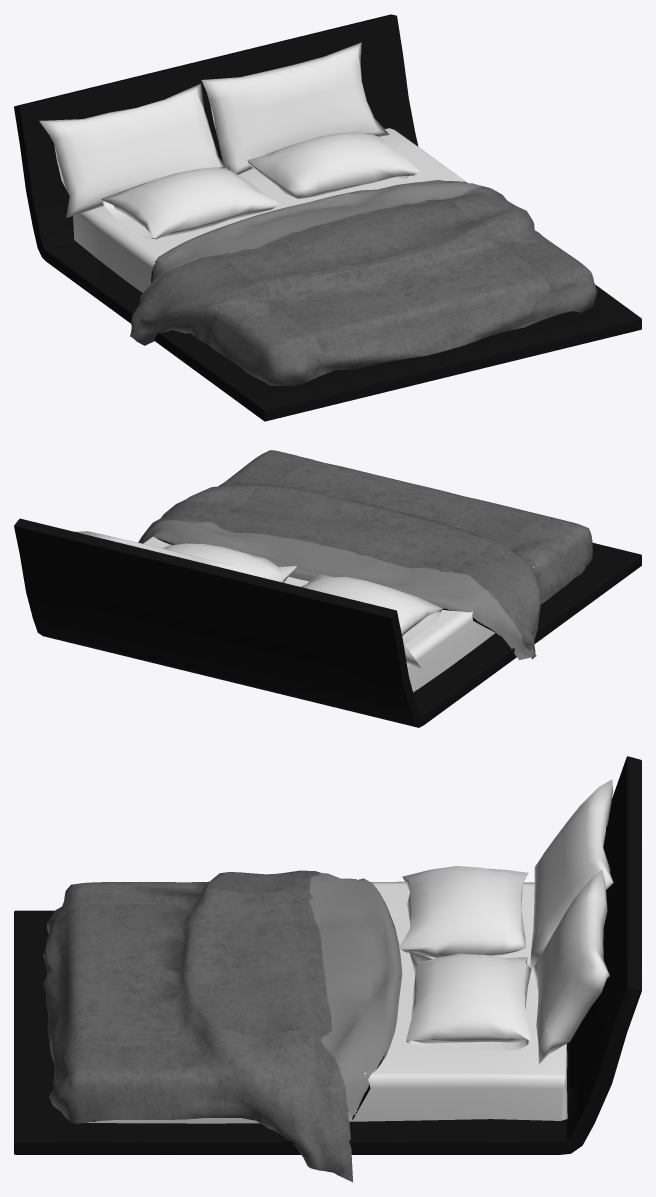
File: bed_poliform_ramos.glb
The picture shows the model from 3 angles, top to bottom: view 1: azimuth 30°, elevation 25°; view 2: azimuth 150°, elevation 25°; view 3: azimuth 270°, elevation 25°; orthographic projection. The views are drawn at different scales.
Visible parts, largest first — view 1: Object_4, Object_3, Object_2; view 2: Object_2, Object_4, Object_3; view 3: Object_4, Object_3, Object_2.
Boxes of the visible parts, bbox=[...] form: Object_4: bbox=[130, 180, 597, 385]; Object_3: bbox=[39, 42, 465, 312]; Object_2: bbox=[14, 14, 641, 421]; Object_2: bbox=[14, 518, 641, 727]; Object_4: bbox=[138, 450, 592, 660]; Object_3: bbox=[75, 531, 538, 692]; Object_4: bbox=[43, 870, 402, 1182]; Object_3: bbox=[86, 779, 613, 1123]; Object_2: bbox=[14, 756, 641, 1154].
Bounding box in the file's own units: 222 × 81.07 × 240.
3 materials, 3 textured.
